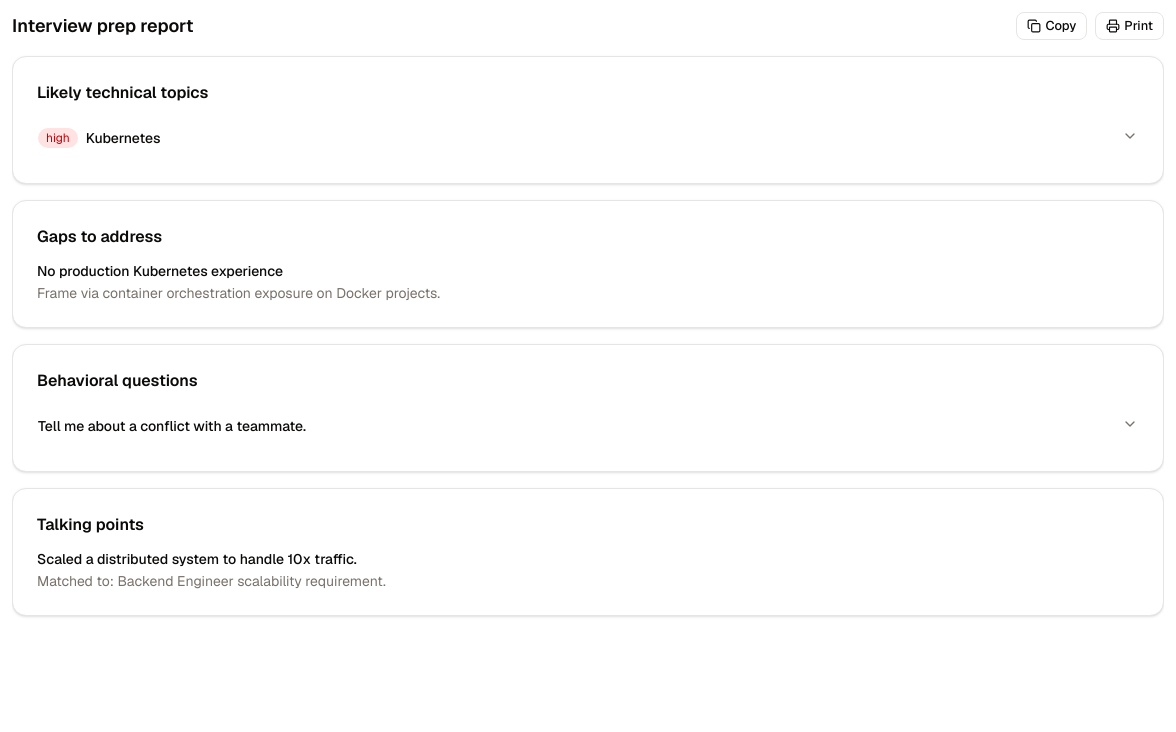
Test: InterviewPrepReport › shows a behavioral question and reveals its company signal and suggested angle once expanded
The image size is (1176, 732).
Expected: the text "Values collaboration." is not shown
Click the button "Tell me about a conflict with a teammate.": (172, 426) [37,405,1139,447]
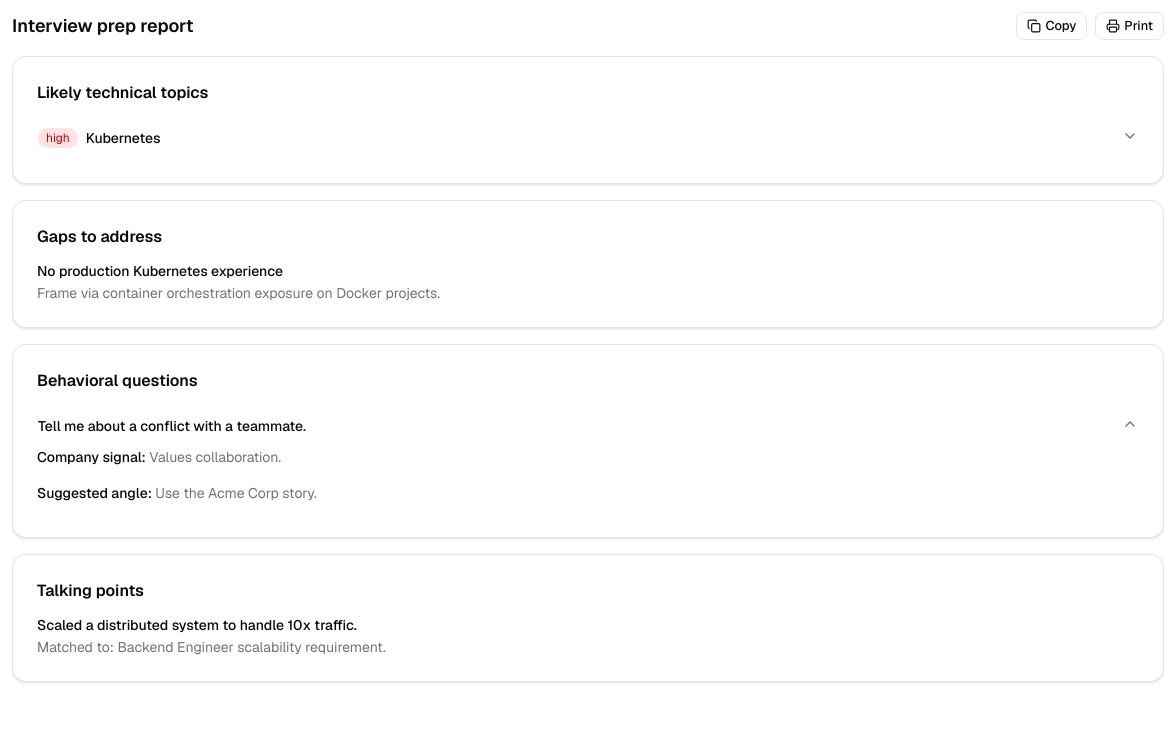
Result: the text "Values collaboration." is shown at [149,448,281,466]
Result: the text "Use the Acme Corp story." is shown at [155,484,317,502]
